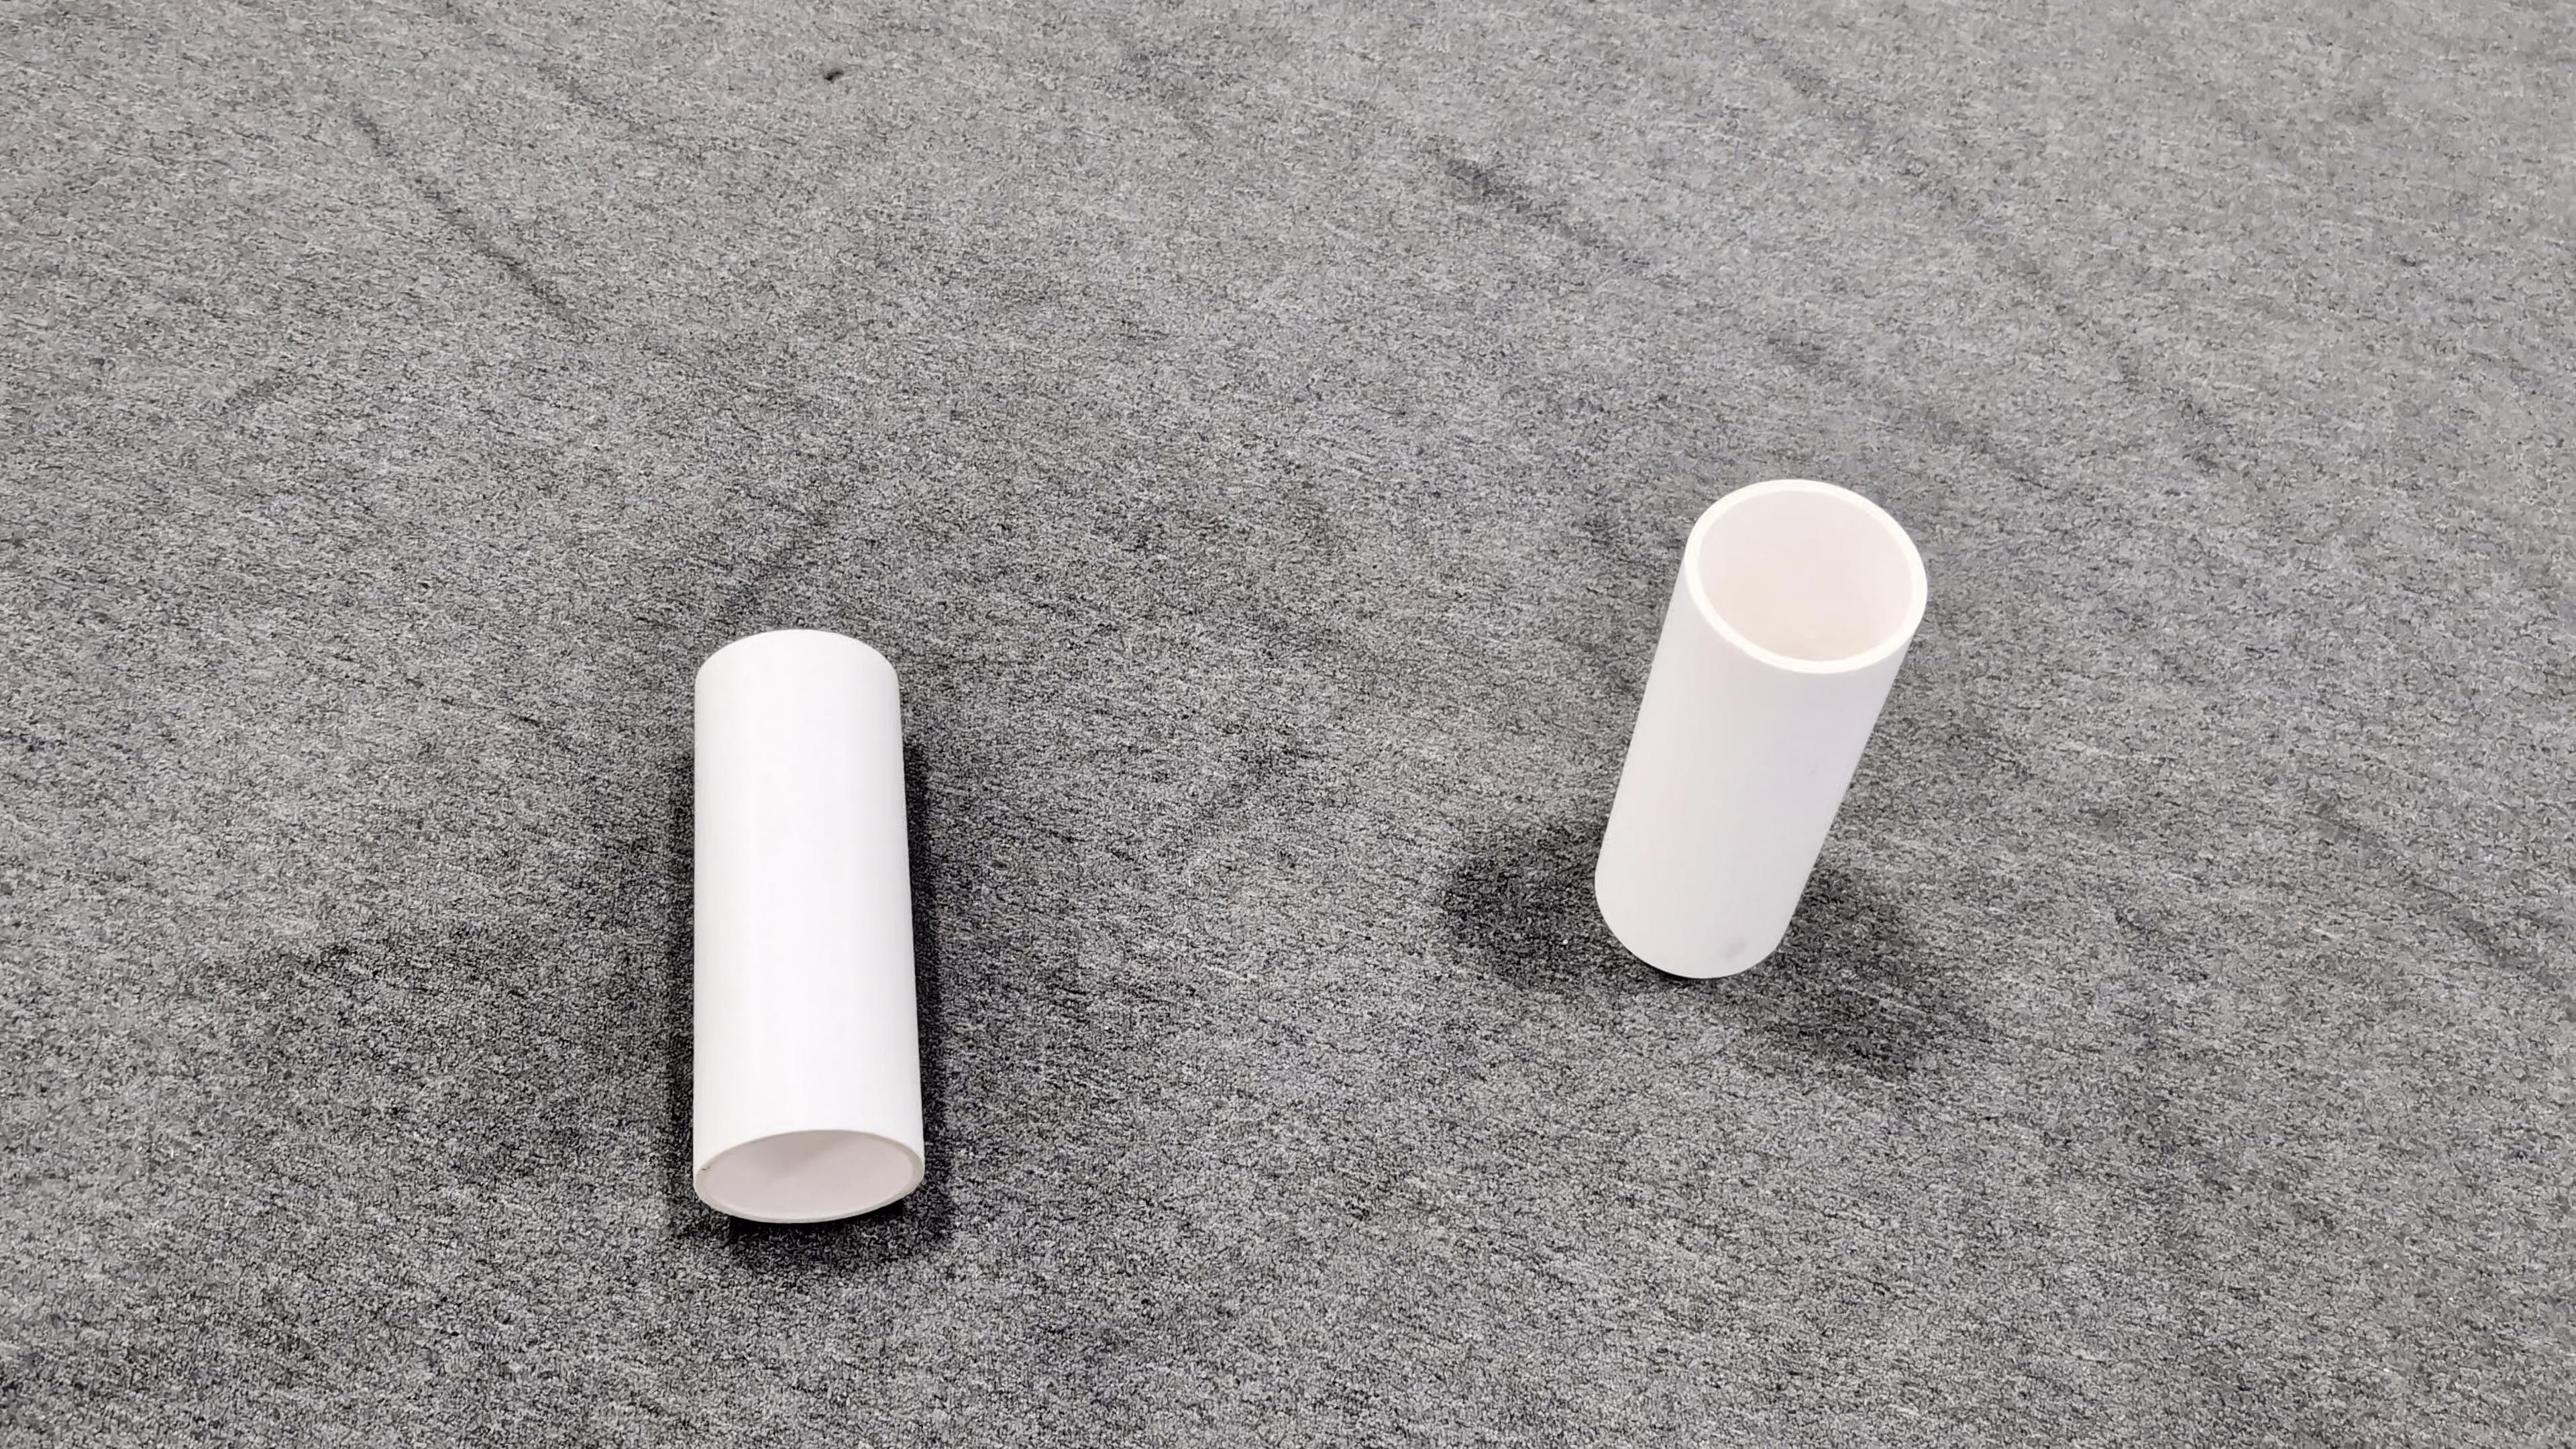coral: (1587, 474, 1928, 978), (685, 626, 925, 1226)
